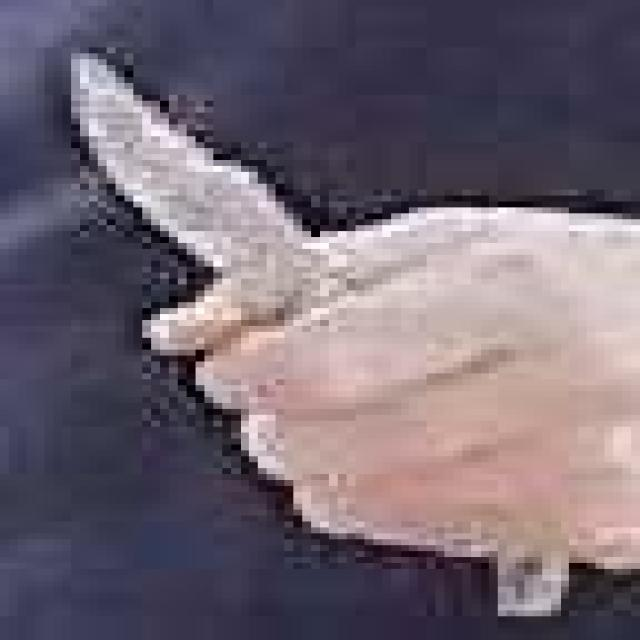Knife: (26, 40, 589, 614)
